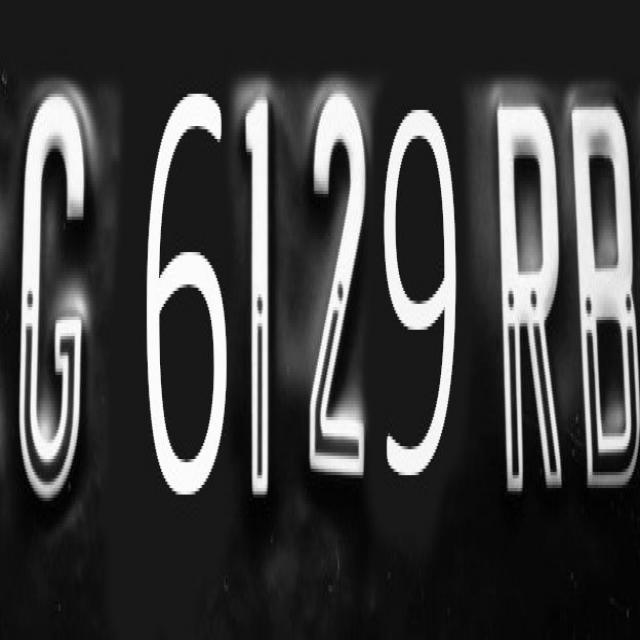1: (250, 83, 280, 512)
2: (306, 90, 372, 480)
6: (140, 90, 234, 506)
9: (380, 98, 454, 482)
B: (574, 98, 640, 492)
G: (16, 78, 110, 510)
R: (488, 90, 568, 502)
